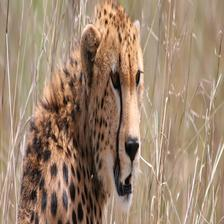Cheetah: (14, 0, 144, 222)
